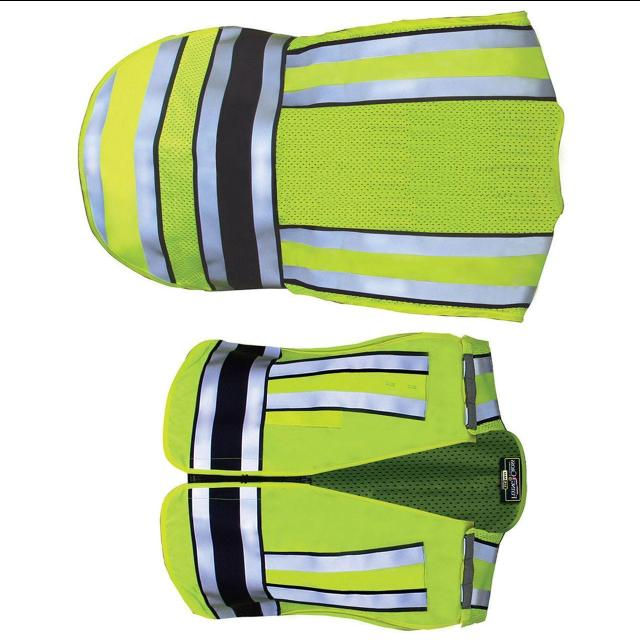jacket: (73, 1, 583, 323), (156, 330, 551, 637)
